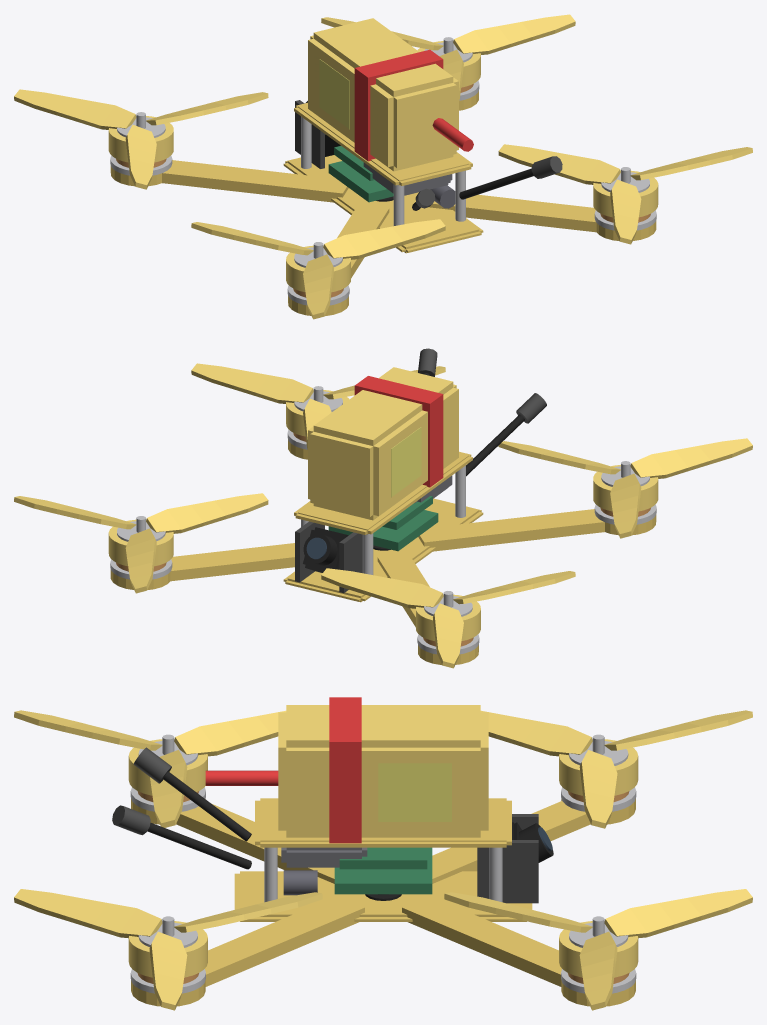
The model's file is goldrush5.glb.
3 views of the same model, one above another, from view 1: azimuth 30°, elevation 25°; view 2: azimuth 150°, elevation 25°; view 3: azimuth 270°, elevation 25° (orthographic). The views are drawn at different scales.
Parts seen in each view (by area): view 1: body, prop_FL, prop_RL, prop_RR, prop_FR, cam_mount; view 2: body, prop_FL, prop_FR, prop_RL, prop_RR, cam_mount, fpv_cam; view 3: body, prop_FR, prop_RR, prop_FL, prop_RL, cam_mount, fpv_cam.
Part boxes in pixels (bbox=[...]): body: bbox=[108, 18, 658, 315]; prop_FL: bbox=[14, 89, 393, 201]; prop_RL: bbox=[191, 219, 445, 319]; prop_RR: bbox=[498, 144, 752, 244]; prop_FR: bbox=[321, 14, 575, 100]; cam_mount: bbox=[295, 100, 324, 168]; body: bbox=[108, 348, 658, 664]; prop_FL: bbox=[321, 545, 575, 668]; prop_FR: bbox=[14, 493, 268, 593]; prop_RL: bbox=[498, 438, 752, 538]; prop_RR: bbox=[191, 363, 445, 449]; cam_mount: bbox=[295, 521, 362, 593]; fpv_cam: bbox=[303, 527, 348, 572]; body: bbox=[112, 697, 638, 1006]; prop_FR: bbox=[444, 889, 752, 1010]; prop_RR: bbox=[14, 889, 322, 1010]; prop_FL: bbox=[365, 710, 752, 900]; prop_RL: bbox=[14, 710, 286, 827]; cam_mount: bbox=[477, 814, 538, 903]; fpv_cam: bbox=[512, 822, 553, 862].
Bounding box in the file's own units: 0.2594 × 0.078 × 0.2748.
